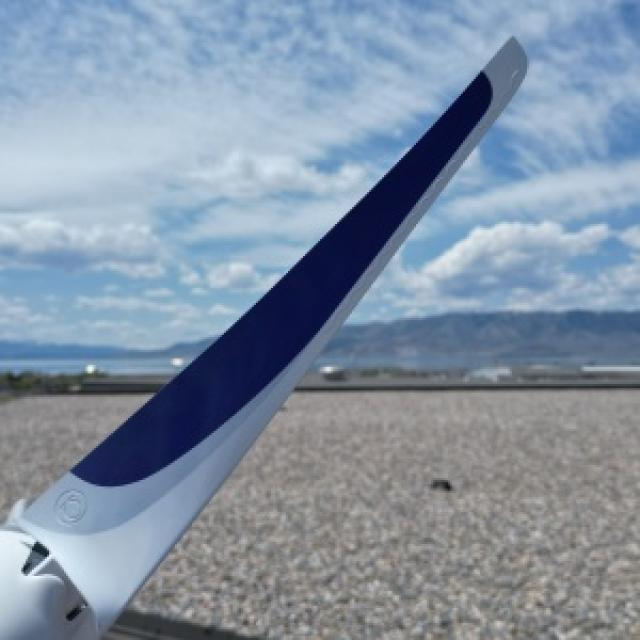healthy: (0, 36, 523, 638)
